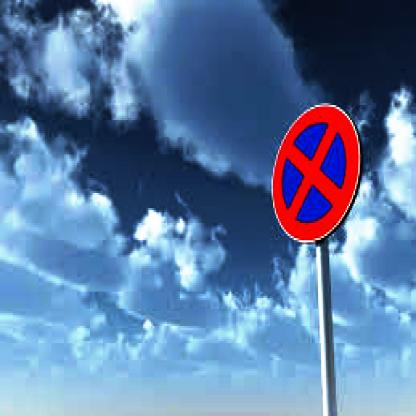No stopping: (269, 104, 361, 245)
